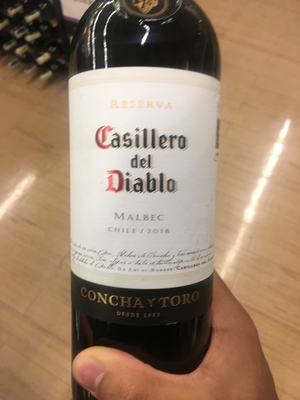casillero del diablo malbec: (57, 3, 229, 380)
